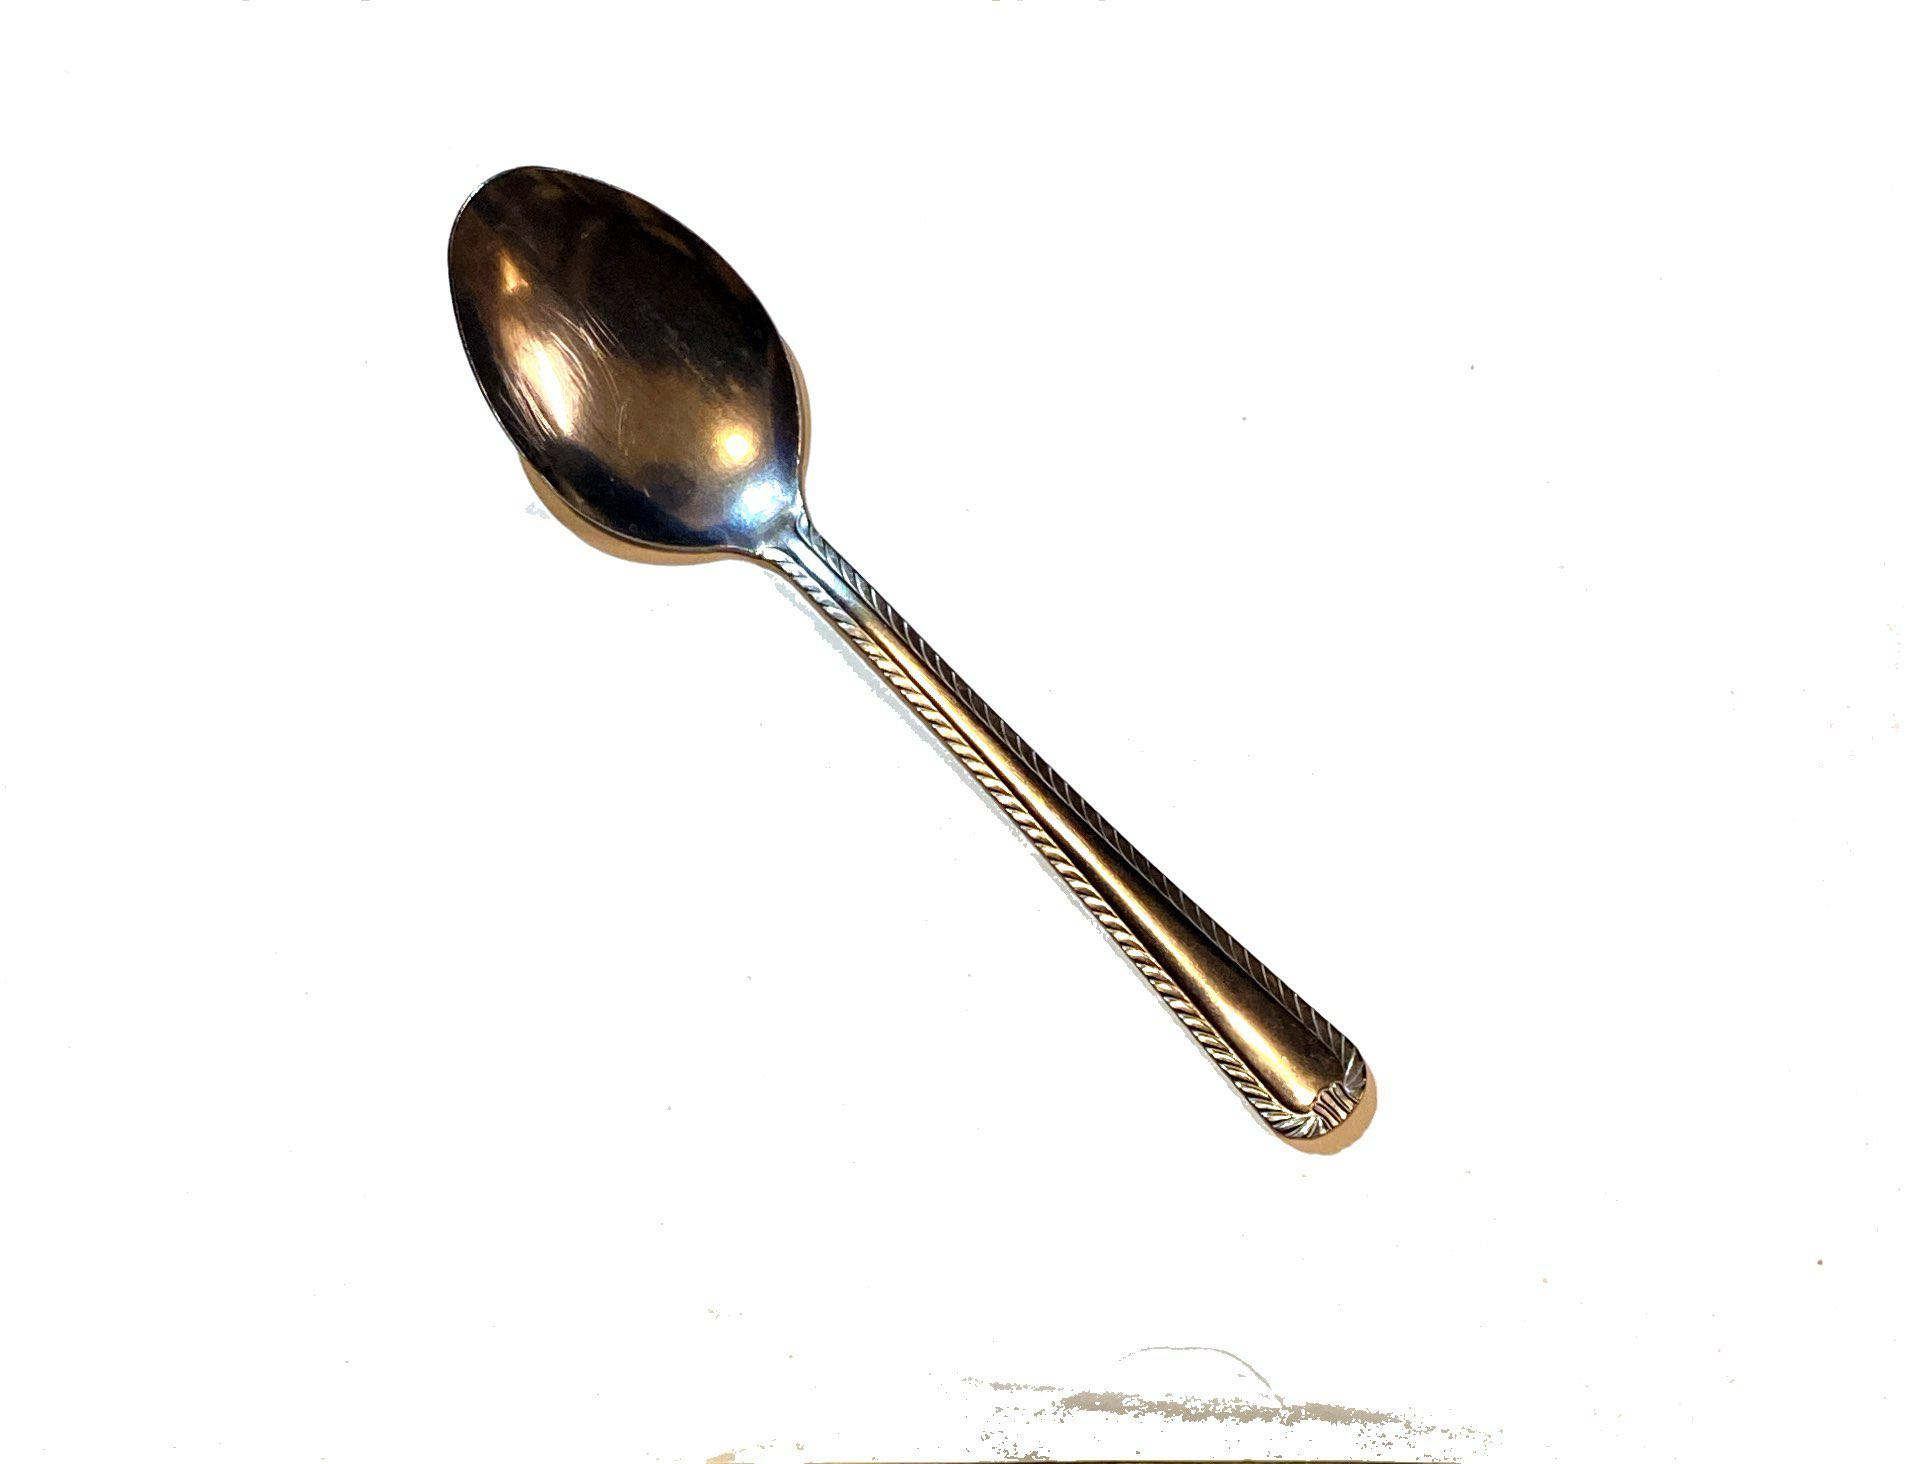Spoon: (427, 101, 1485, 1223)
